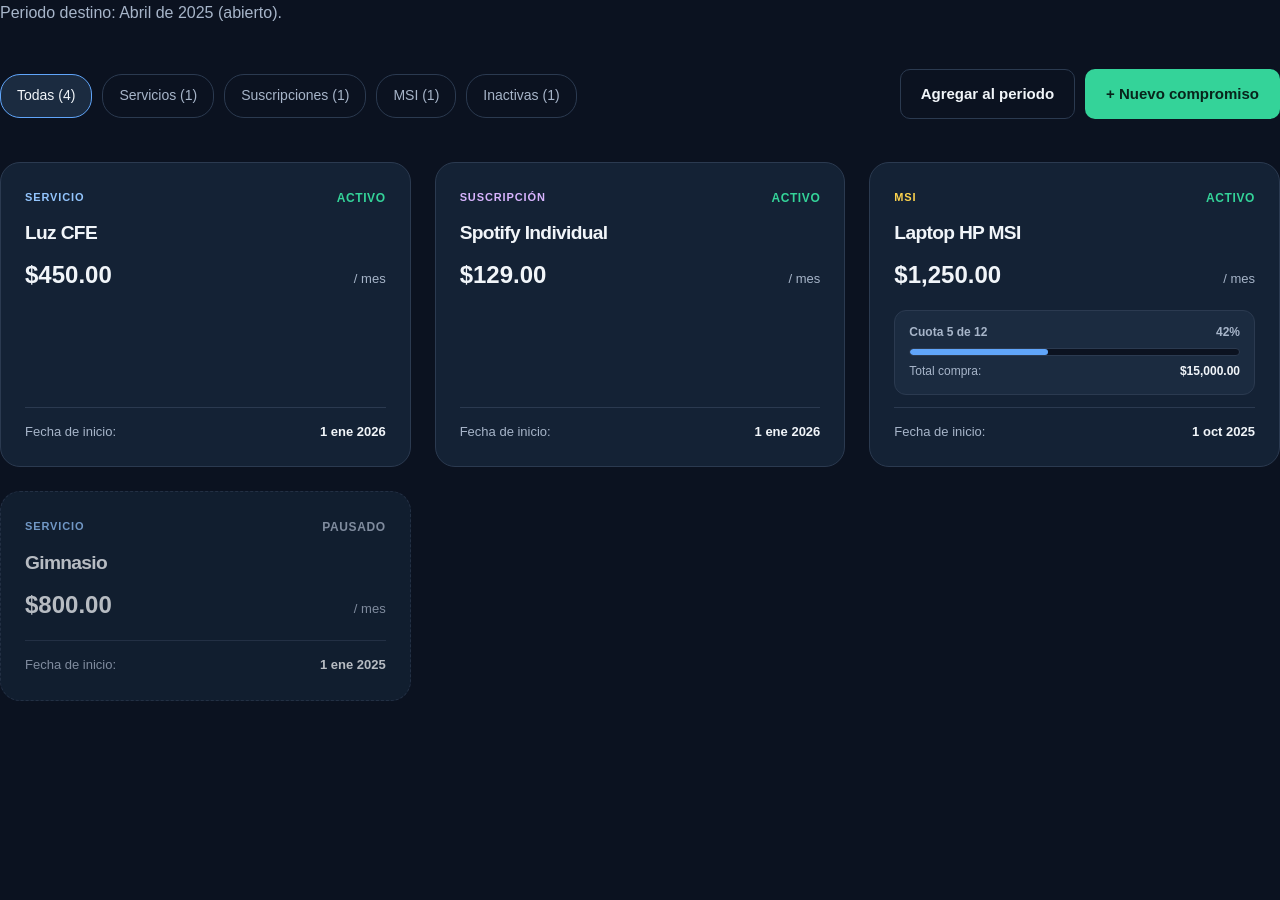
Test: RecurringList › rejects incompatible results
Click the button "Agregar al periodo" at (987, 94), box [900, 69, 1075, 119]
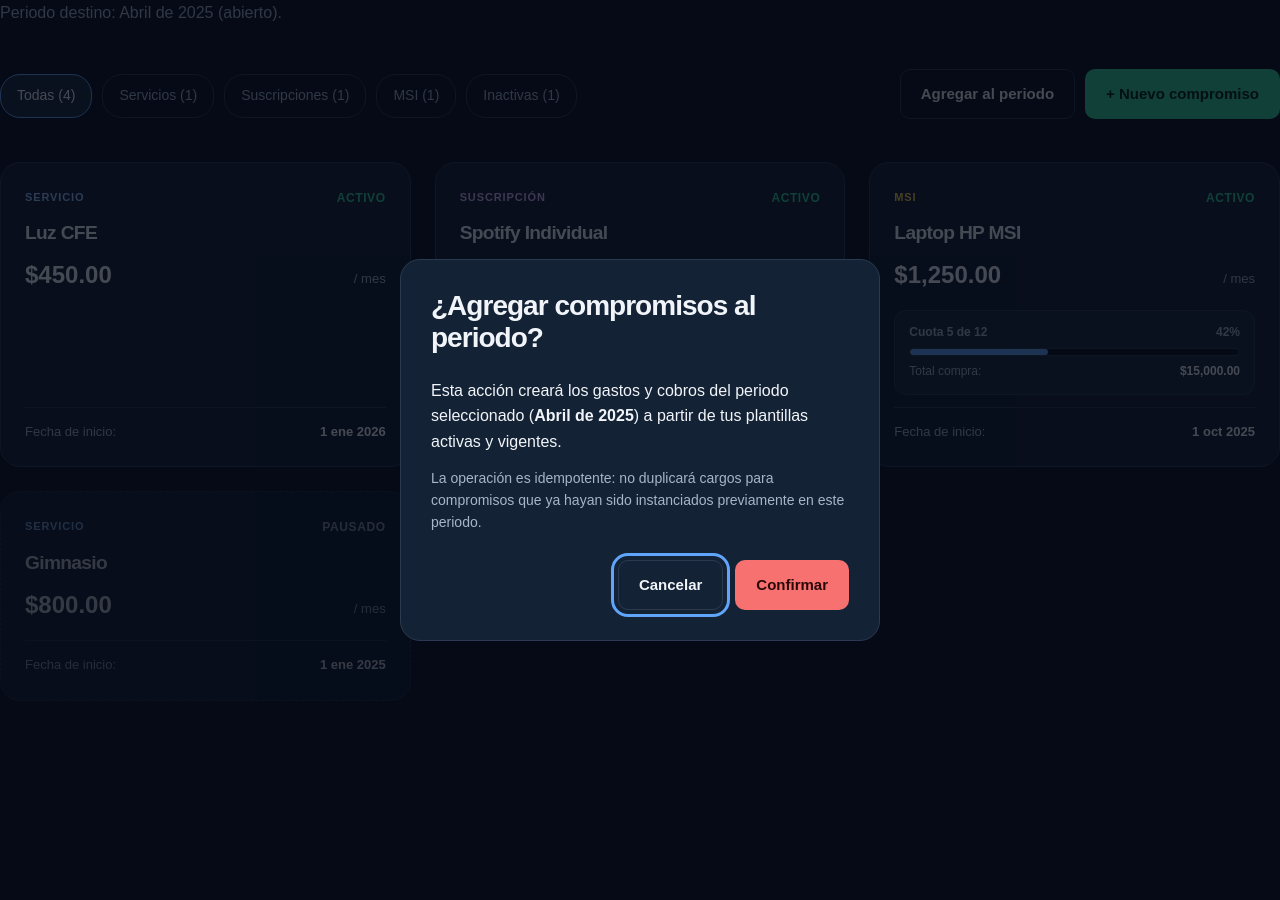
Click the button "Confirmar" at (792, 585), box [735, 560, 849, 610]
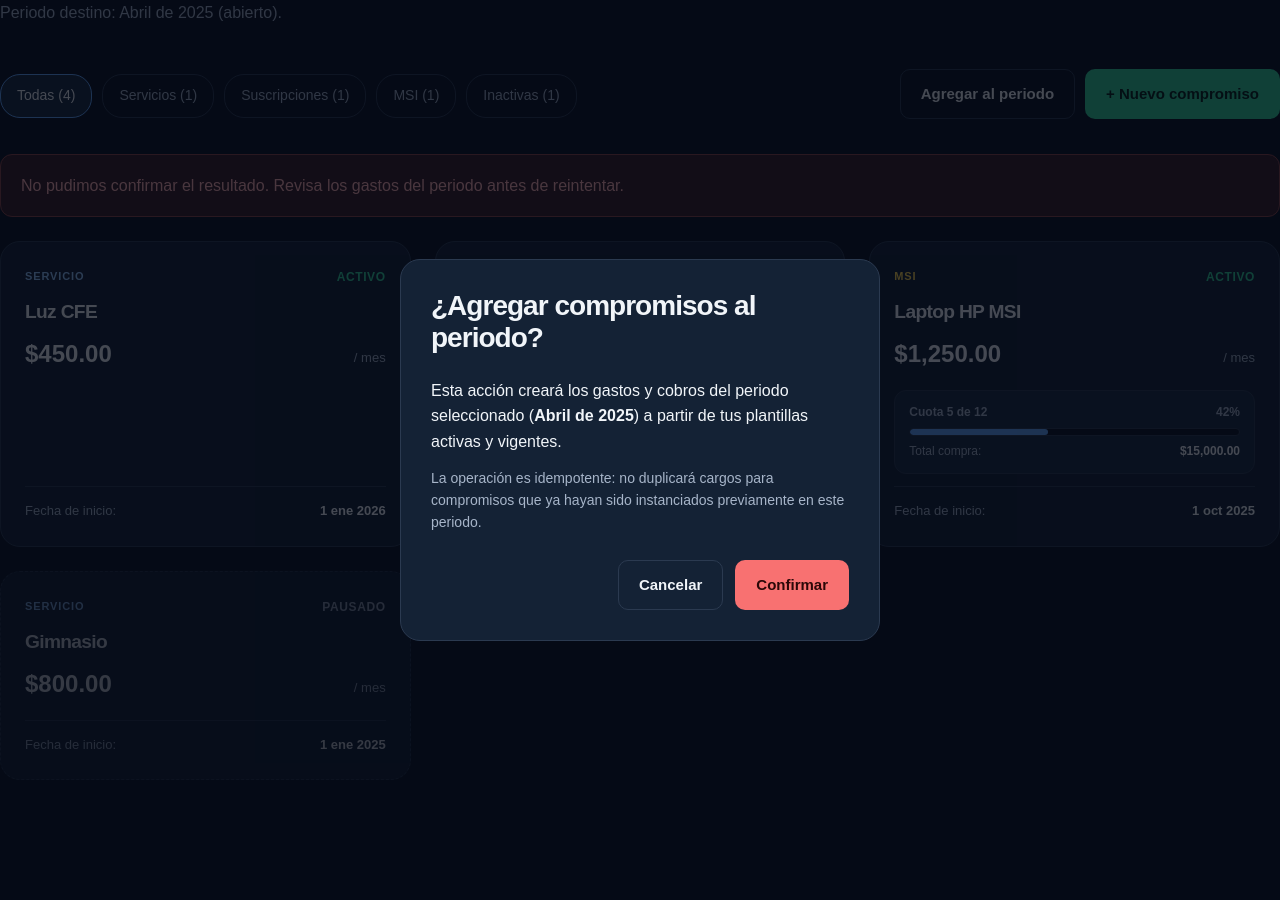
Expected: the message shows "No pudimos confirmar", [21, 177, 624, 194]
